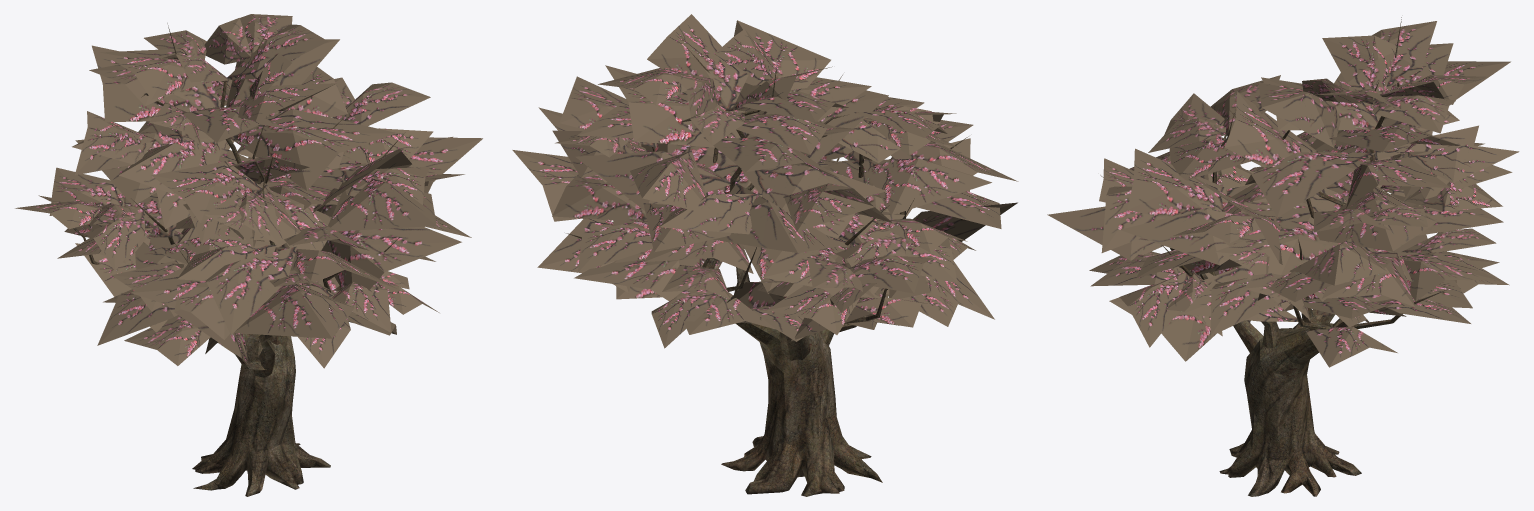
Rendered from bg_anh_tree_apricottree02_sm_phs.FBX.
The picture shows the model from 3 angles, left to right: view 1: azimuth 30°, elevation 25°; view 2: azimuth 150°, elevation 25°; view 3: azimuth 270°, elevation 25°; orthographic projection. The views are drawn at different scales.
Parts seen in each view (by area): view 1: bg_anh_tree_apricottree02_sm_phs; view 2: bg_anh_tree_apricottree02_sm_phs; view 3: bg_anh_tree_apricottree02_sm_phs.
Part boxes in pixels (left/top/right/bottom): bg_anh_tree_apricottree02_sm_phs: left=15, top=14, right=482, bottom=496; bg_anh_tree_apricottree02_sm_phs: left=512, top=14, right=1018, bottom=496; bg_anh_tree_apricottree02_sm_phs: left=1047, top=17, right=1519, bottom=496.
Size of the model in its own units: 508 by 500 by 491.
